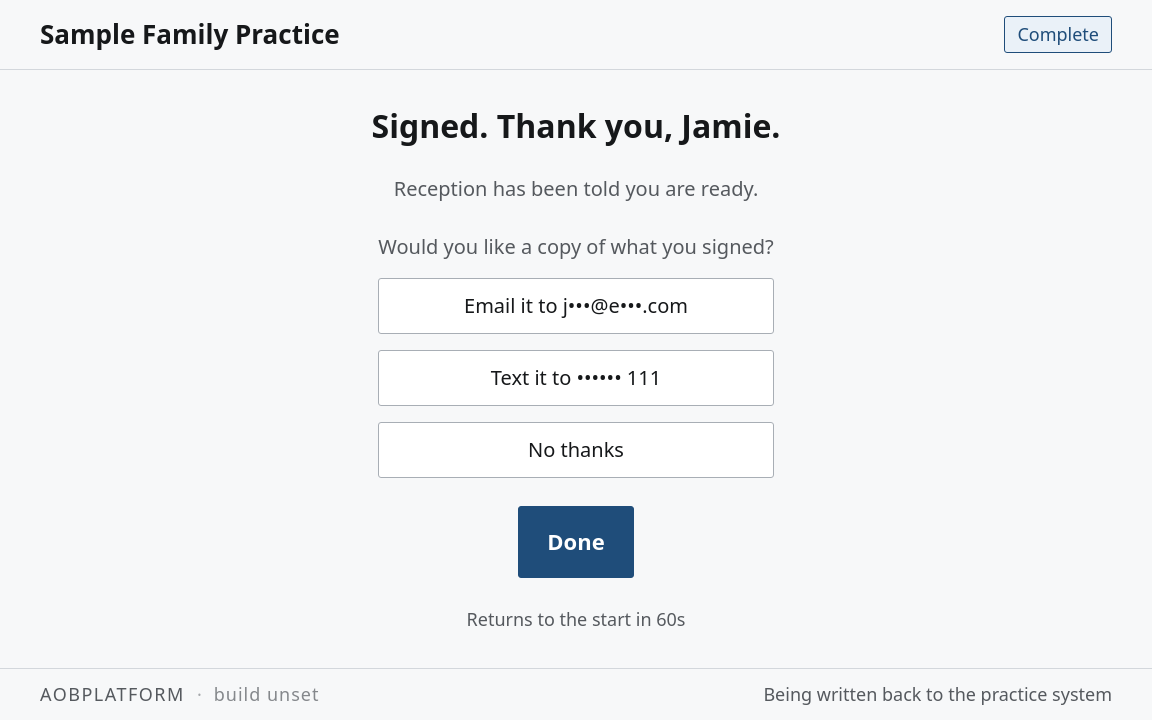
the copy offer on K-6 › kiosk_persists_nothing_but_pairing_when_a_copy_is_offered
The image size is (1152, 720).
Check: the element with test id "copy-offer" is shown, box [378,232,774,478]
Click the button with test id "copy-option-email": (576, 306) [378,278,774,334]
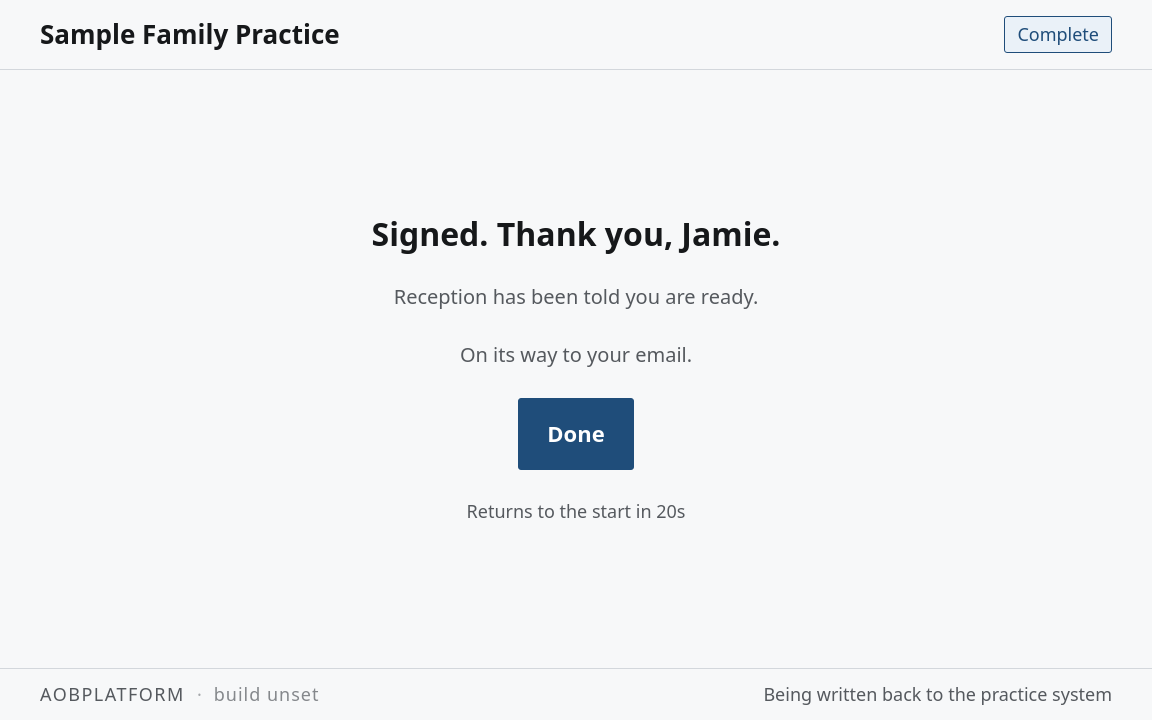
Check: the text "On its way to your email." is shown, box [460,340,692,370]
